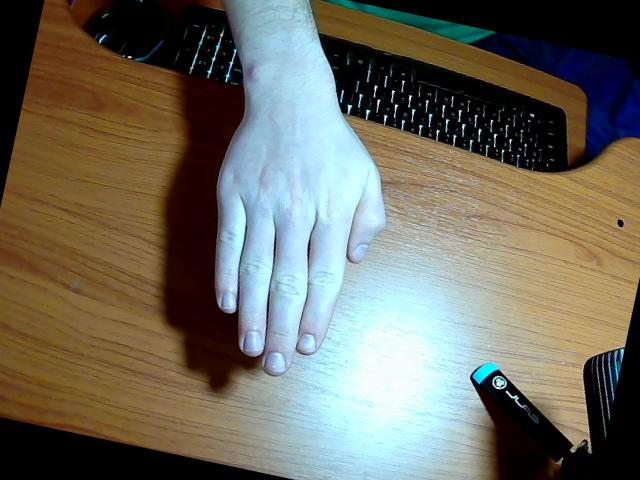paper: (215, 0, 385, 375)
